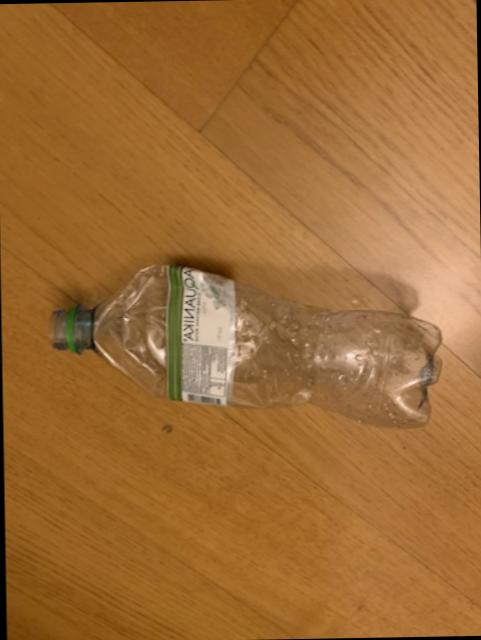plastic: (49, 269, 437, 429)
